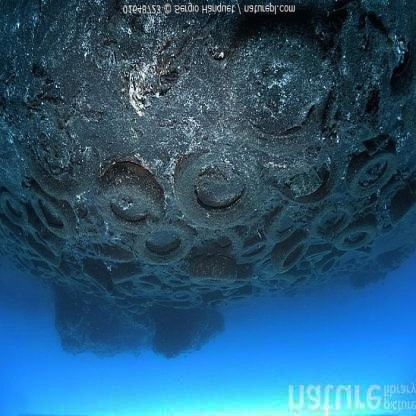tire: (222, 30, 324, 148), (173, 146, 250, 225), (96, 161, 174, 229), (28, 141, 106, 195), (273, 152, 340, 201), (350, 138, 396, 200), (32, 187, 83, 236), (139, 223, 190, 270), (266, 230, 314, 276), (186, 243, 236, 286), (339, 216, 379, 257), (90, 241, 144, 271), (264, 197, 305, 235), (19, 231, 59, 266), (320, 199, 352, 240), (76, 258, 114, 290), (310, 246, 346, 276), (2, 180, 27, 223), (239, 226, 268, 260), (133, 272, 169, 293), (200, 290, 227, 310), (169, 284, 196, 302), (260, 275, 284, 294), (290, 276, 308, 290)
